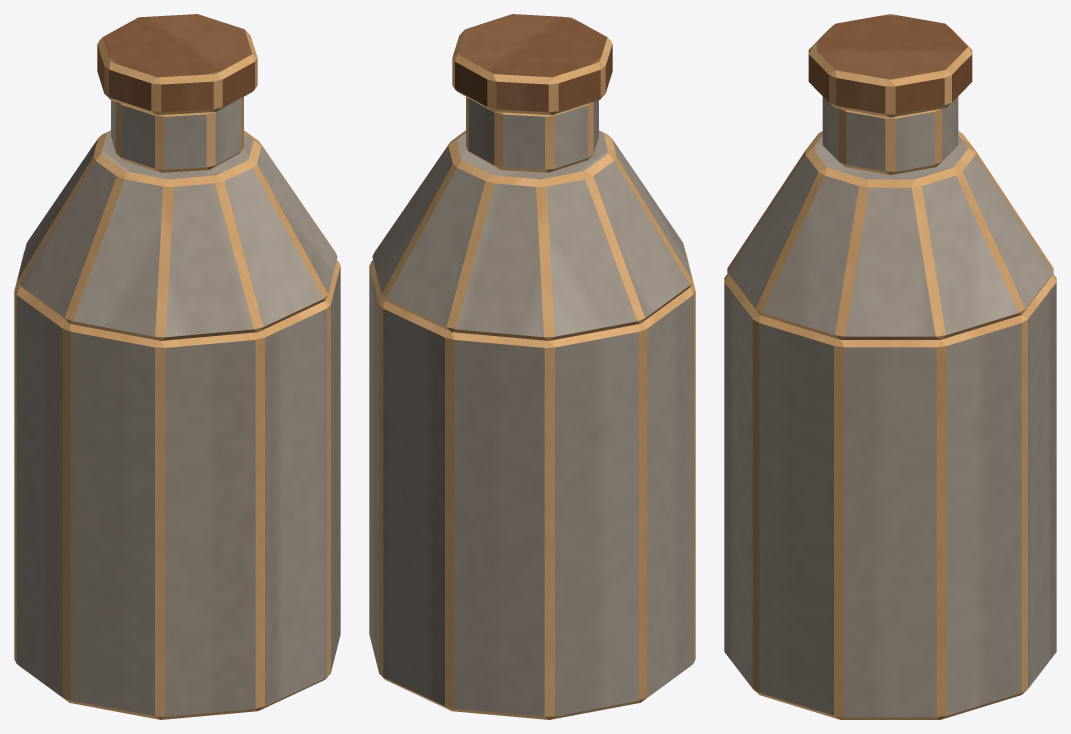
Rendered from sm_prop_milk_churn.glb.
3 renders of one model, left to right at view 1: azimuth 30°, elevation 25°; view 2: azimuth 150°, elevation 25°; view 3: azimuth 270°, elevation 25°, orthographic.
Parts seen in each view (by area): view 1: sm_prop_milk_churn; view 2: sm_prop_milk_churn; view 3: sm_prop_milk_churn.
Boxes of the visible parts, x1,y1,x2,y2 form: sm_prop_milk_churn: (14, 14, 340, 719); sm_prop_milk_churn: (369, 14, 695, 719); sm_prop_milk_churn: (724, 14, 1056, 719).
Size of the model in its own units: 0.2283 by 0.48 by 0.2375.
1 material, 1 textured.
